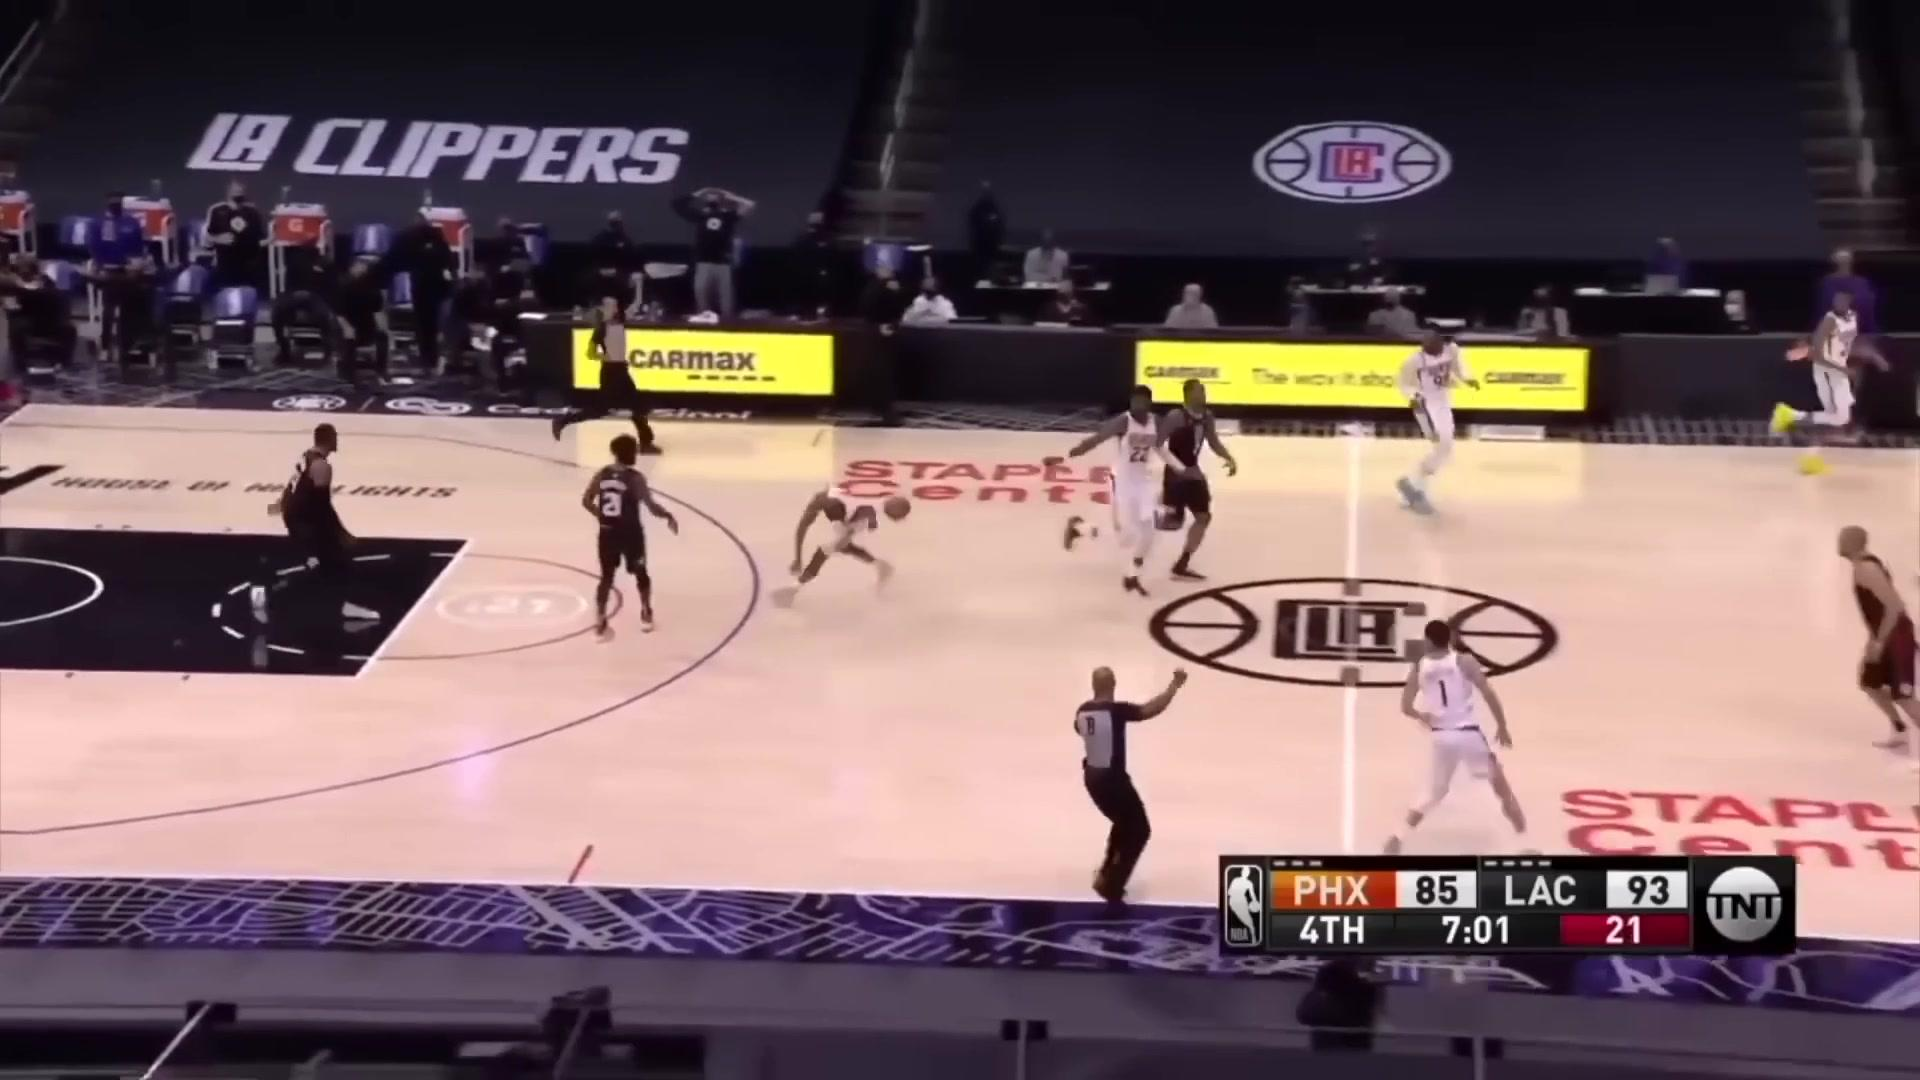no_foul: (556, 402, 907, 662)
